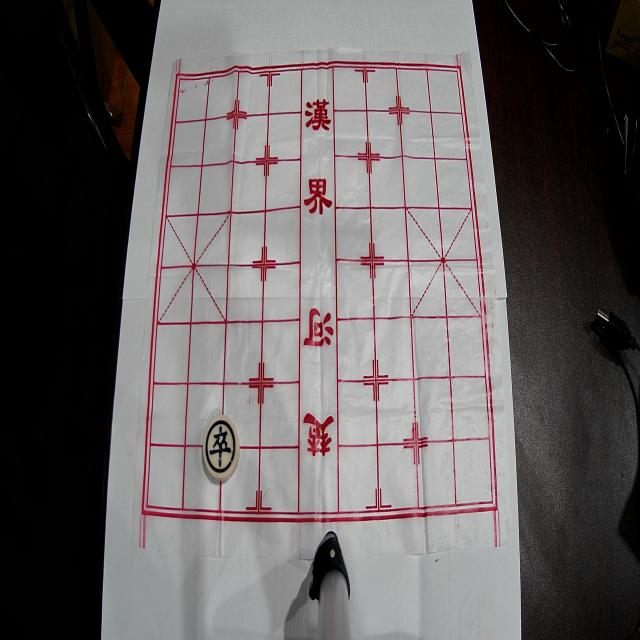black-soldier: (203, 415, 239, 480)
